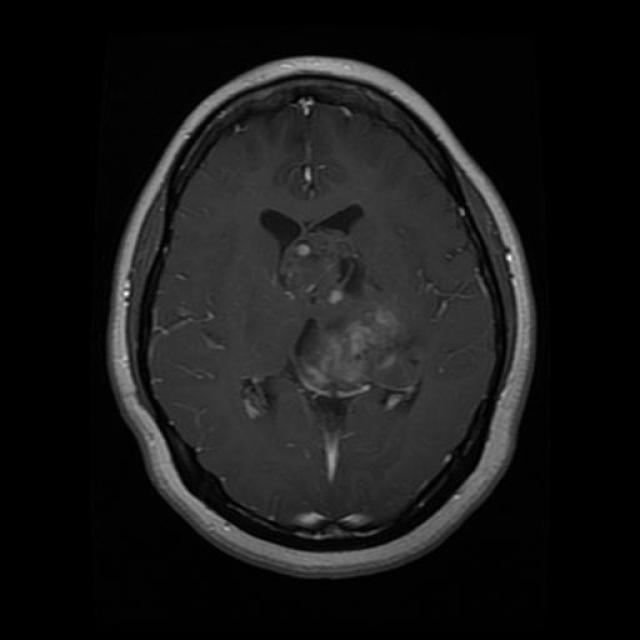glioma: (257, 202, 425, 448)
